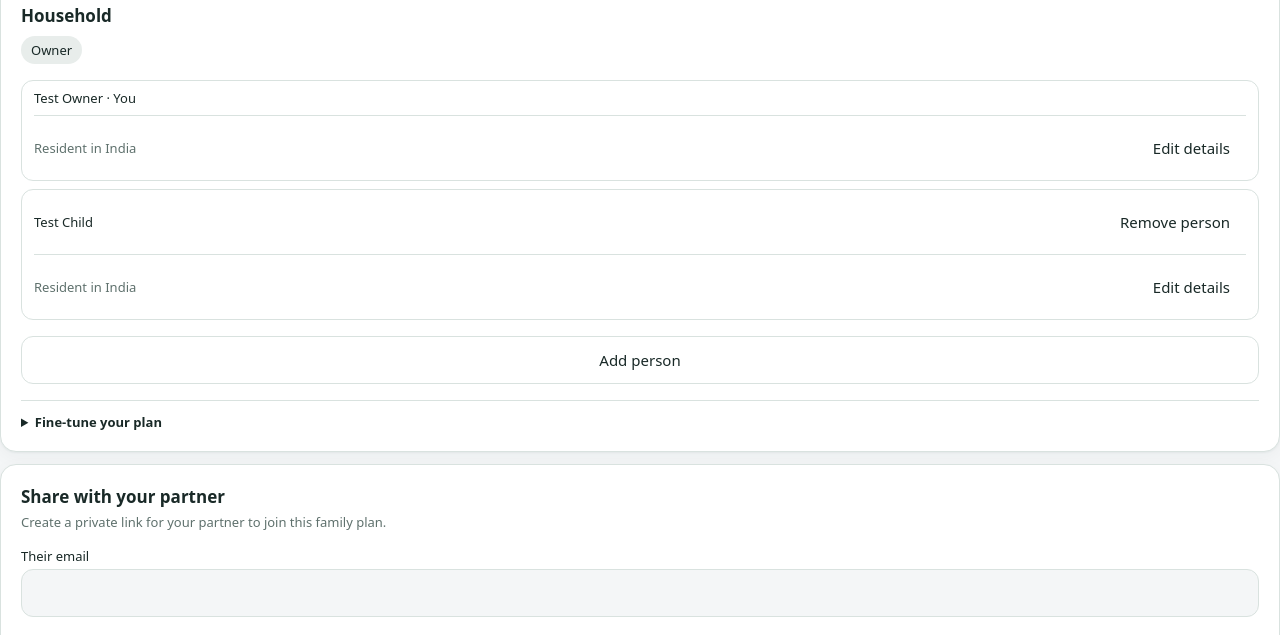
Test: Settings › saves profile and investing settings to their supported API paths
The image size is (1280, 635).
Expected: the text "Test Child" is shown, [34,213,93,231]
Click the heading "Fine-tune your plan".
click(98, 422)  # box [35,413,162,431]
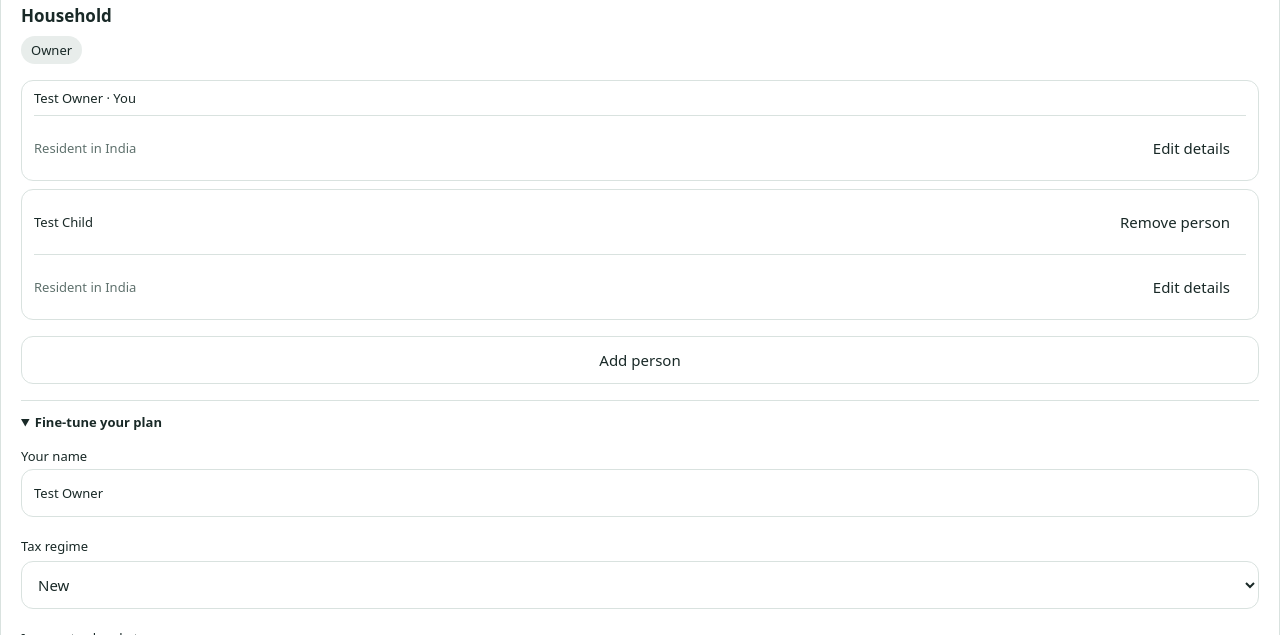
Replace the text in the field labelled "Your name" with "Updated Test Owner" at (640, 493), box [21,469,1259,517]
(page scrolled)
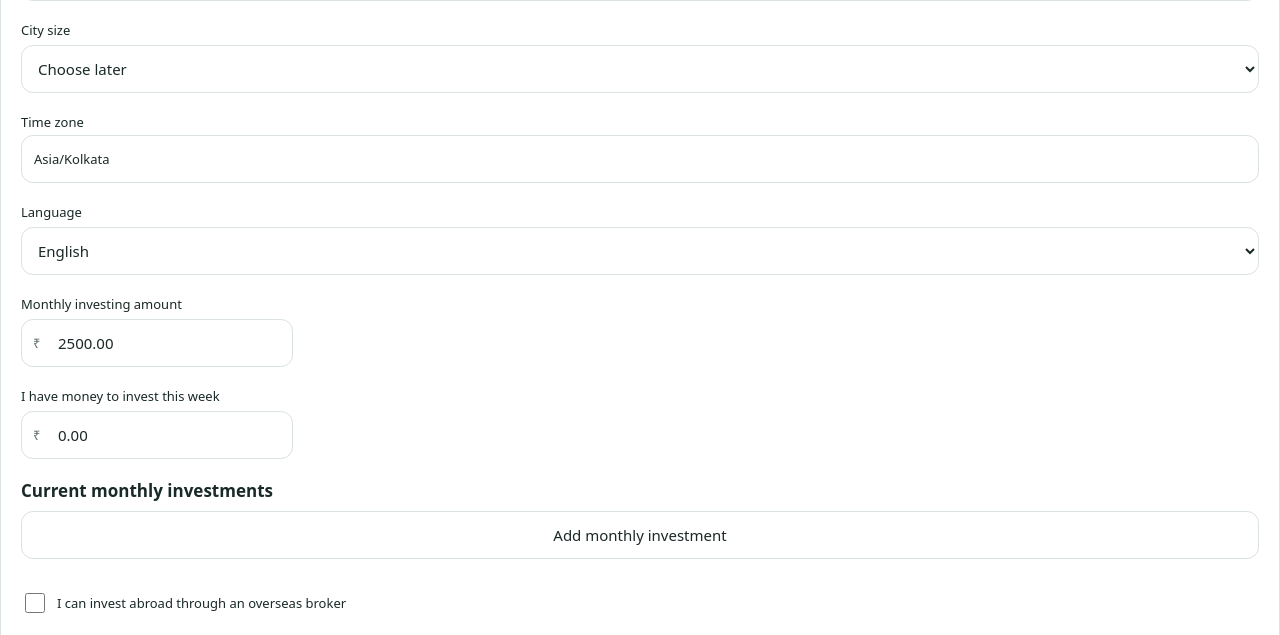
Replace the text in the field labelled "Monthly investing amount" with "3500" at (157, 343), box [21,319,293,367]
(page scrolled)
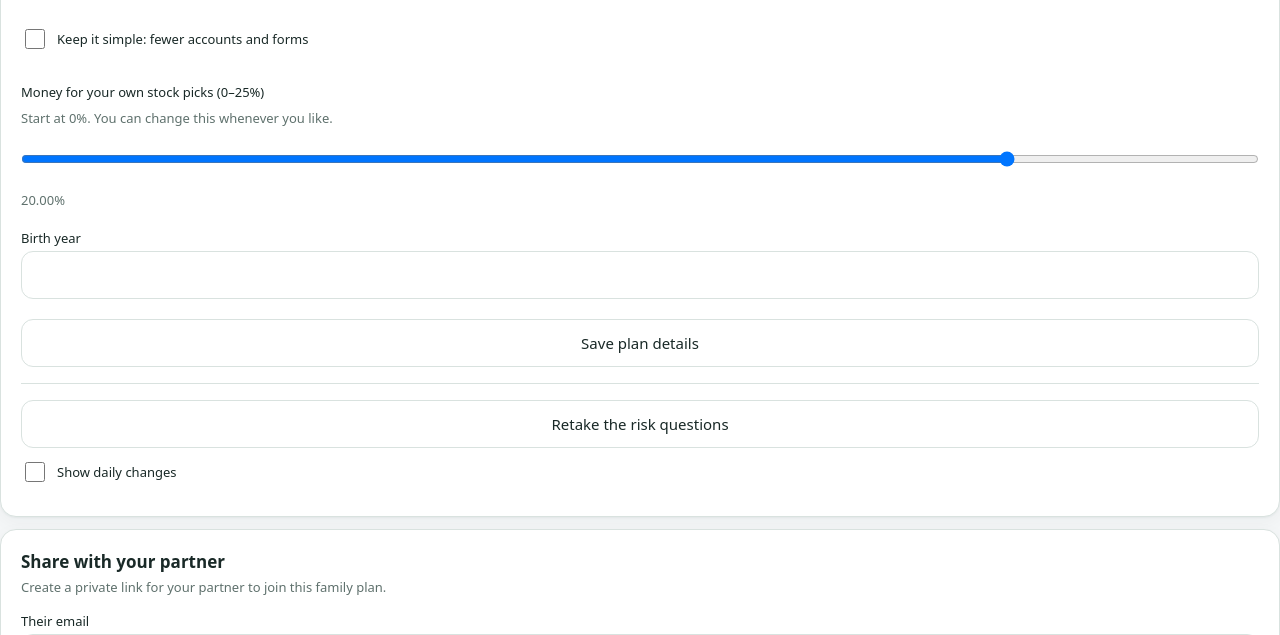
Click the button "Save plan details".
click(640, 343)  # box [21,319,1259,367]
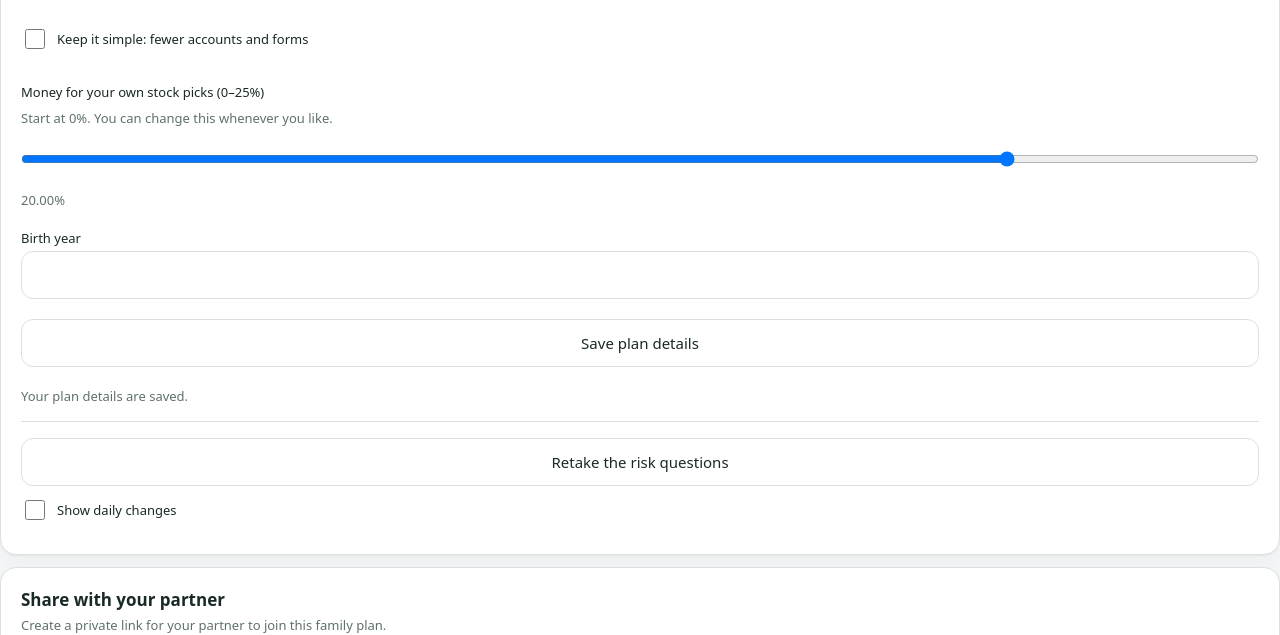
Expected: the text "Your plan details are saved." is shown, [21,387,188,405]
